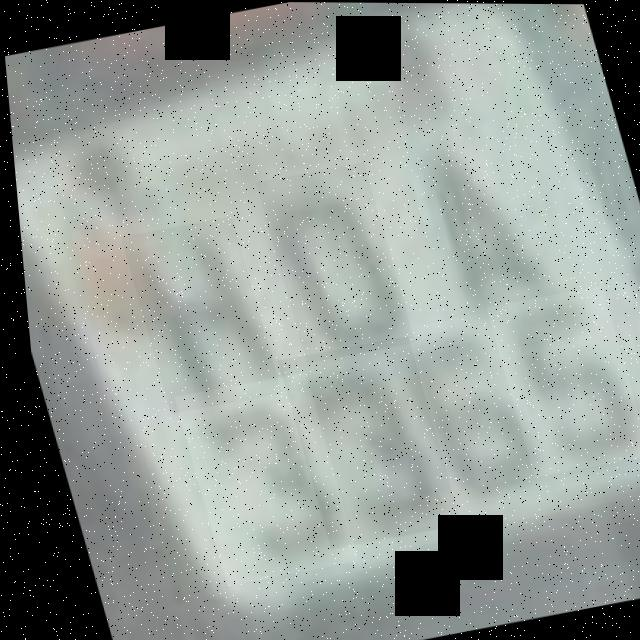3: (165, 370, 350, 586), (269, 334, 453, 549)
5: (479, 284, 640, 478)
6: (379, 309, 545, 521)
A: (380, 109, 557, 337)
D: (251, 161, 410, 364)
H: (115, 215, 276, 415)
